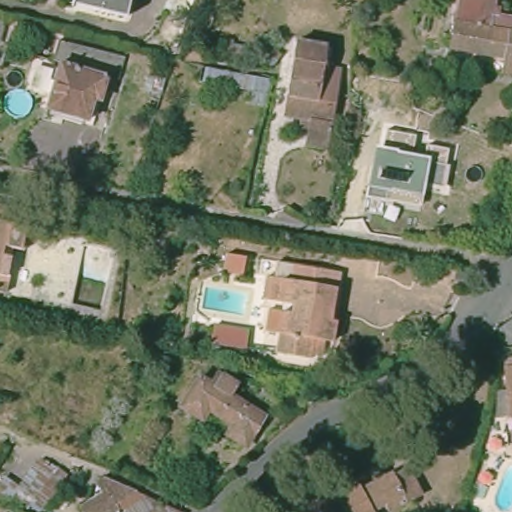pool: (193, 283, 257, 320), (492, 453, 512, 512), (2, 89, 39, 120)
